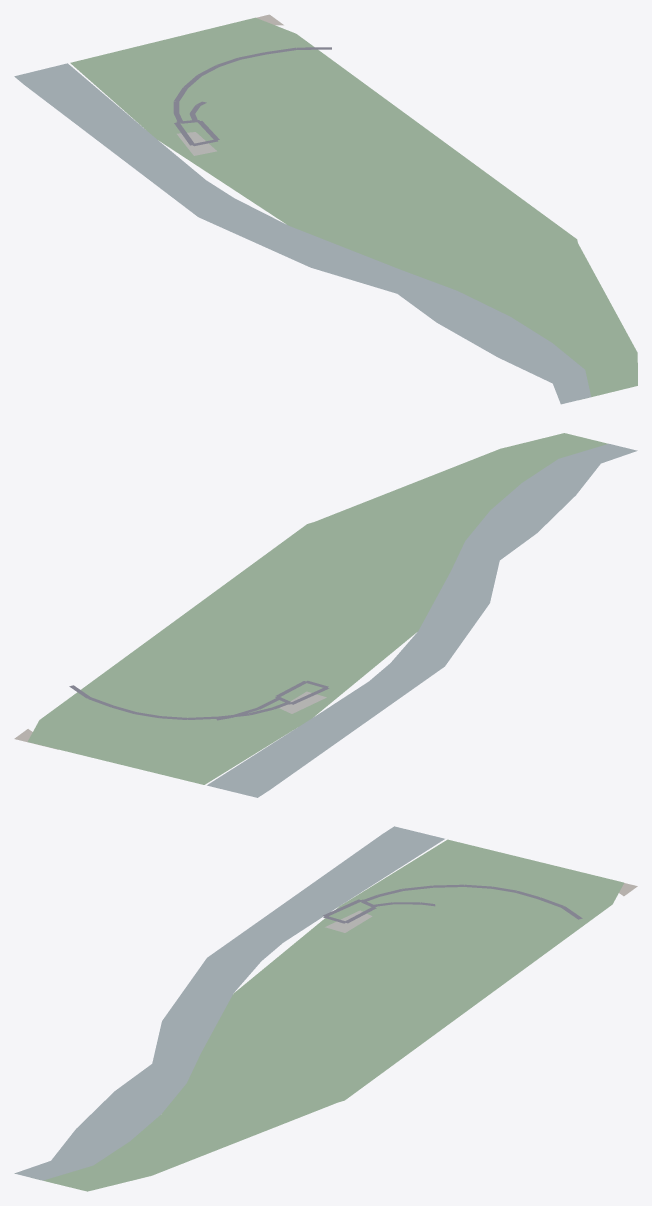
File: 98_91_mid.glb
3 renders of one model, top to bottom at view 1: azimuth 30°, elevation 25°; view 2: azimuth 150°, elevation 25°; view 3: azimuth 330°, elevation 25°, orthographic. The views are drawn at different scales.
Bounding box in the file's own units: 161 × 6.43 × 500.
